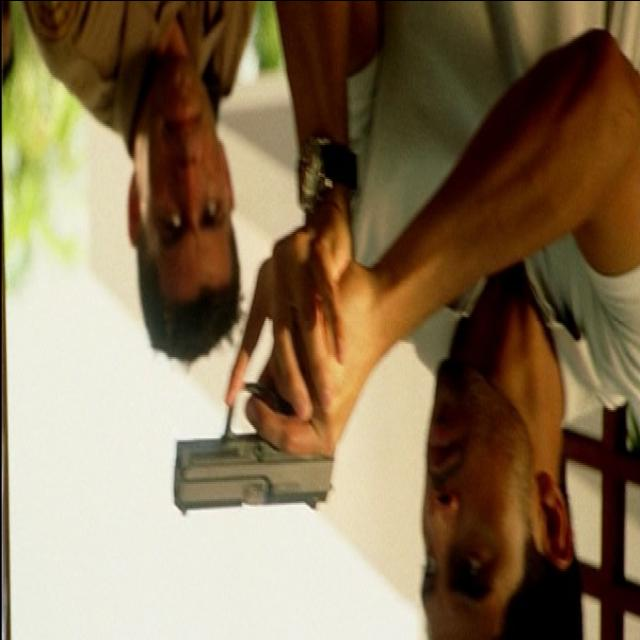weapons: (166, 280, 344, 531)
